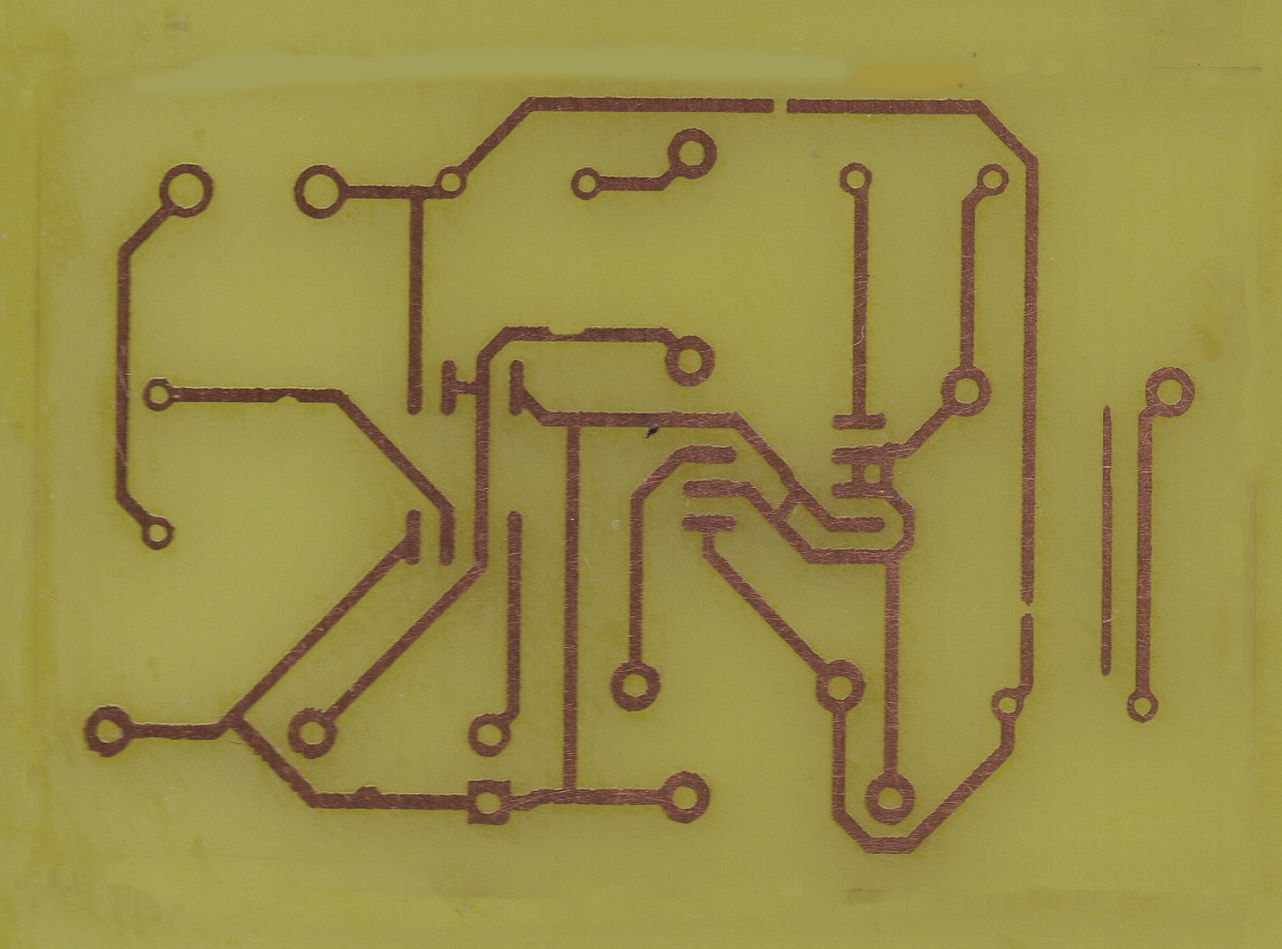mouse_bite: (265, 382, 312, 406), (545, 324, 590, 338)
open_circuit: (761, 95, 800, 119), (1017, 595, 1036, 622)
short: (762, 481, 810, 522)
spur: (345, 779, 389, 817)
spurious_copper: (1100, 405, 1116, 681)
